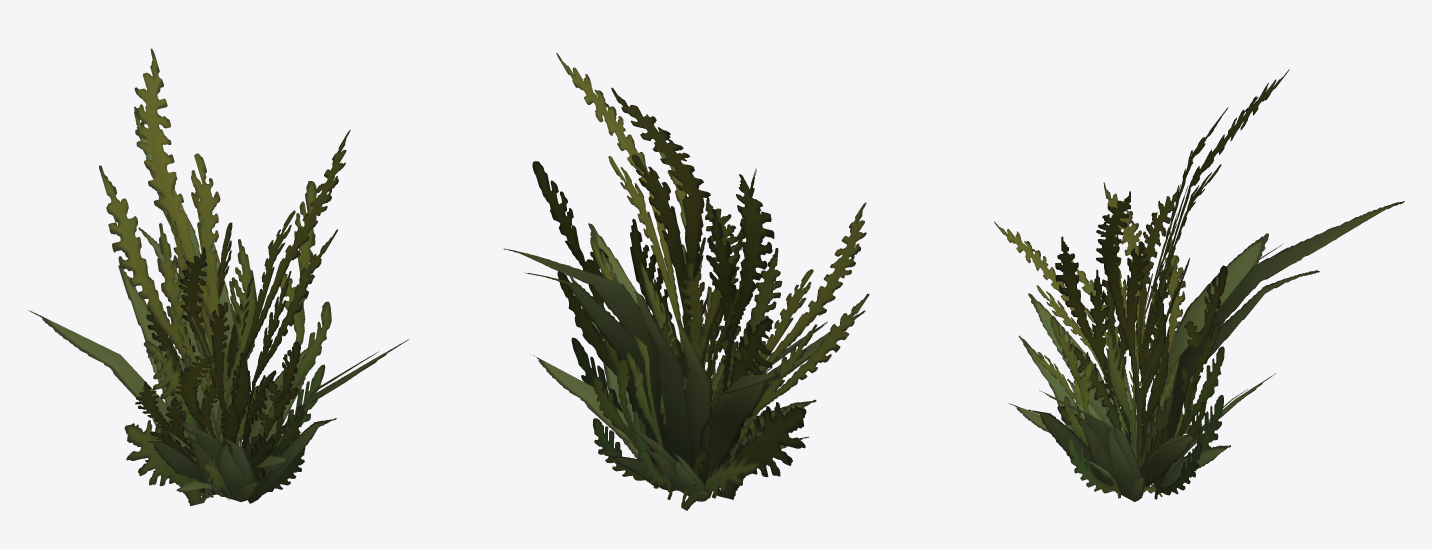
Rendered from FiberPlant.FBX.
The picture shows the model from 3 angles, left to right: view 1: azimuth 30°, elevation 25°; view 2: azimuth 150°, elevation 25°; view 3: azimuth 270°, elevation 25°; orthographic projection. The views are drawn at different scales.
Visible parts, largest first — view 1: FiberPlant; view 2: FiberPlant; view 3: FiberPlant.
Boxes of the visible parts, x1,y1,x2,y2 form: FiberPlant: [28, 48, 408, 505]; FiberPlant: [503, 53, 869, 510]; FiberPlant: [994, 69, 1404, 501].
Bounding box in the file's own units: 0.9472 × 1.11 × 1.06.
